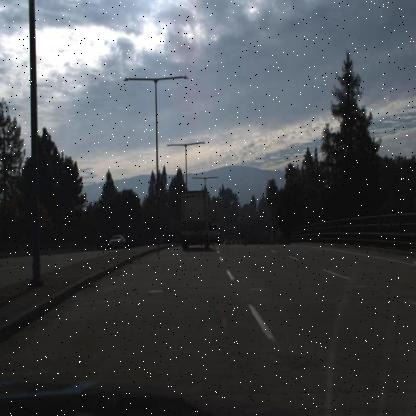car: (106, 231, 126, 249), (206, 221, 221, 243)
truck: (179, 188, 210, 250)
